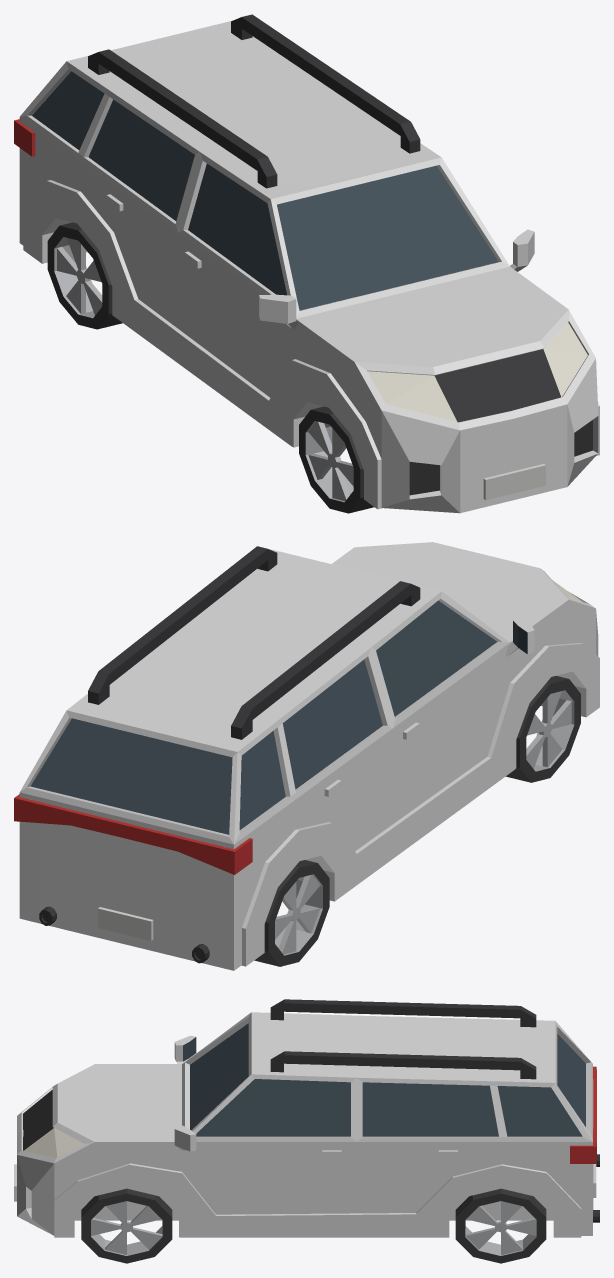
Rendered from suv.glb.
The picture shows the model from 3 angles, top to bottom: view 1: azimuth 30°, elevation 25°; view 2: azimuth 150°, elevation 25°; view 3: azimuth 270°, elevation 25°; orthographic projection. The views are drawn at different scales.
Parts seen in each view (by area): view 1: paint, fixed; view 2: paint, fixed; view 3: paint, fixed.
Part boxes in pixels (box(x1,y1,x2,y2)): paint: box(19, 21, 599, 513); fixed: box(14, 14, 592, 513); paint: box(19, 542, 599, 970); fixed: box(14, 546, 582, 966); paint: box(14, 1012, 596, 1237); fixed: box(23, 999, 599, 1263).
Size of the model in its own units: 1.85 by 1.7 by 4.6.
